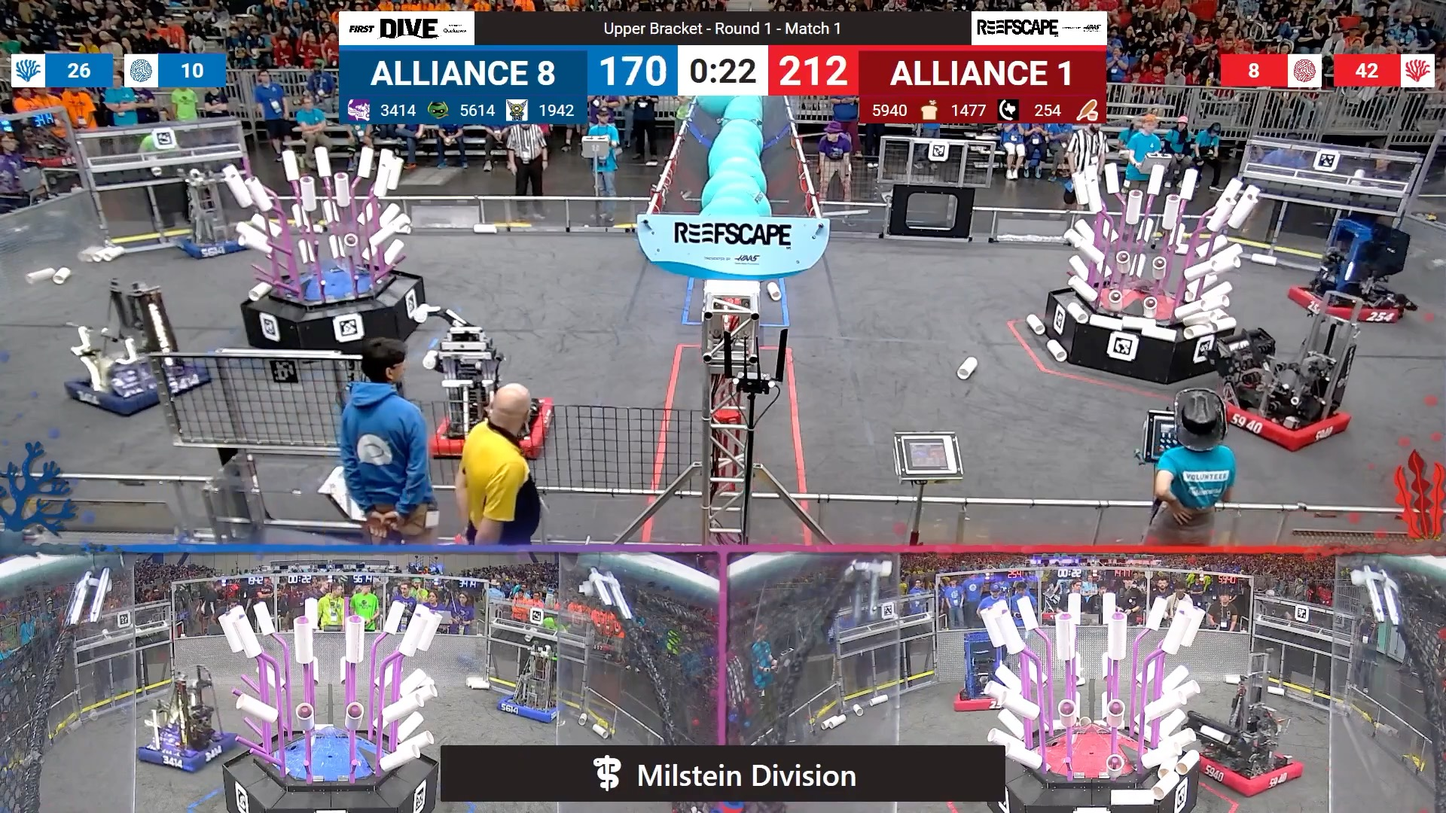bumpers: (1196, 381, 1362, 456), (64, 358, 225, 415), (420, 405, 554, 467), (1182, 740, 1308, 797), (1281, 278, 1414, 327), (137, 727, 248, 778), (173, 228, 260, 262), (496, 693, 572, 728), (956, 680, 1015, 716)
